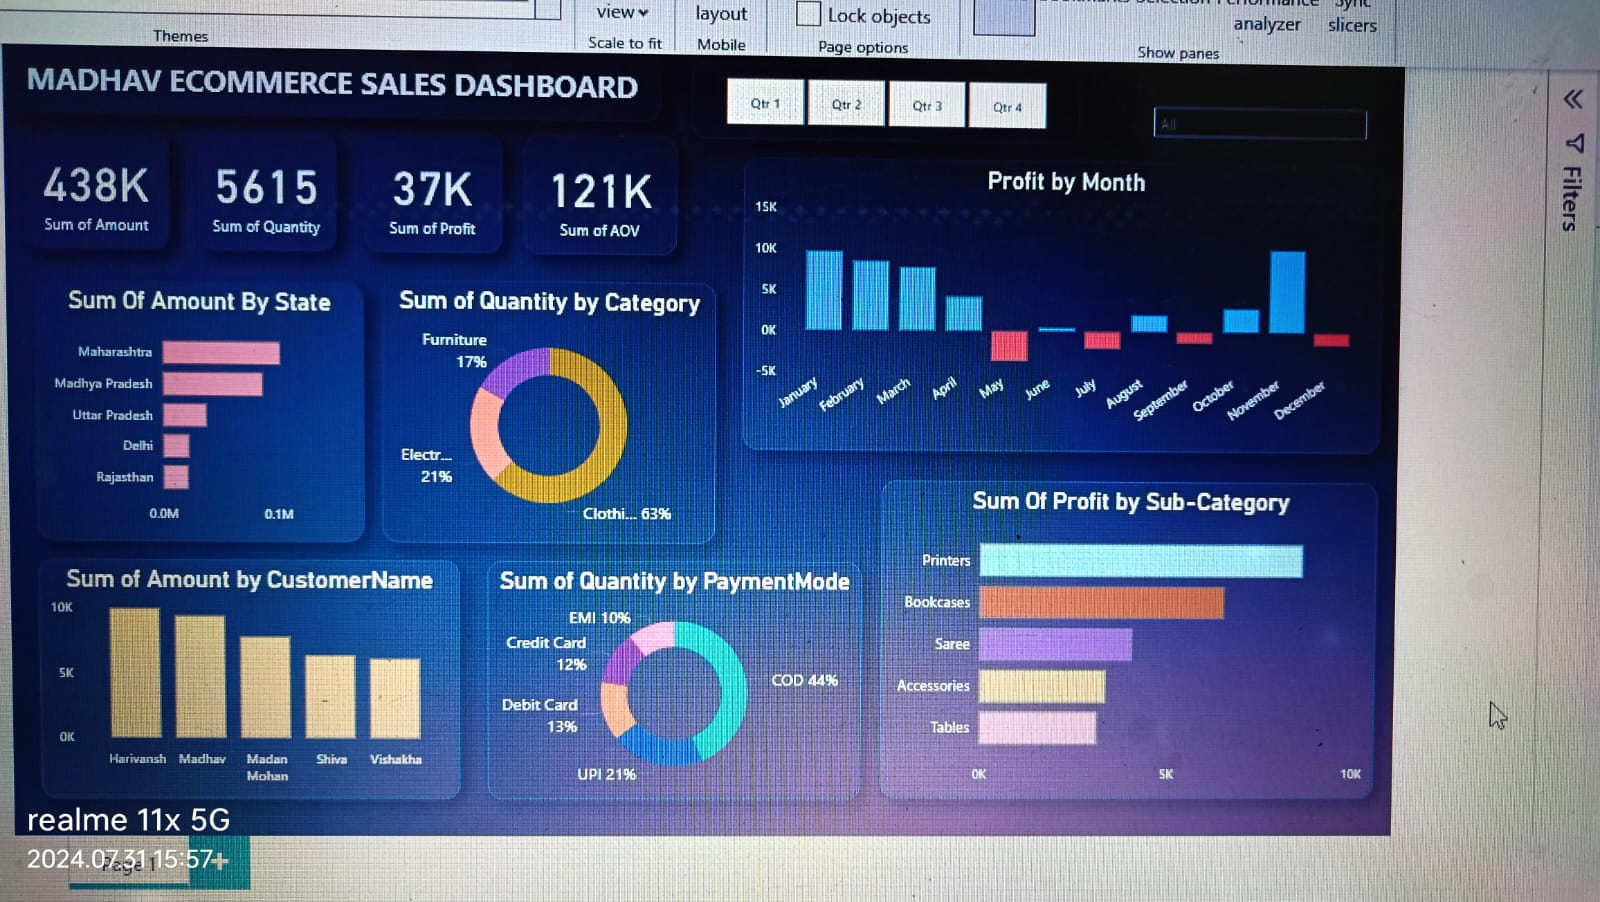

What the dashboard file says about the page in this screenshot:
{"tool":"powerbi","page":{"name":"Page 1","canvas":[1280,720],"ordinal":0},"visuals":[{"type":"textbox","box":[0,0,589.9,62.4],"z":0},{"type":"columnChart","title":"Profit by Month","fields":{"Category":["Orders.Order Date.Variation.Date Hierarchy.Month"],"Y":["Details.Profit"]},"box":[665.5,92,594.8,267.8],"z":1000},{"type":"barChart","title":"Sum Of Profit by Sub-Category","fields":{"Category":["Details.Sub-Category"],"Y":["Details.Profit"]},"box":[795.3,387.8,465,297.4],"z":2000},{"type":"donutChart","fields":{"Category":["Details.Category"],"Y":["Details.Quantity"]},"box":[336.8,207,304,239.9],"z":3000},{"type":"donutChart","fields":{"Y":["Details.Quantity"],"Category":["Details.PaymentMode"]},"box":[432.1,463.4,345.1,221.8],"z":4000},{"type":"card","fields":{"Values":["Details.Amount"]},"box":[16.4,75.6,131.5,108.4],"z":5000},{"type":"card","fields":{"Values":["Details.Quantity"]},"box":[170.9,75.6,124.9,108.4],"z":6000},{"type":"card","fields":{"Values":["Details.Profit"]},"box":[320.4,75.6,124.9,108.4],"z":7000},{"type":"card","fields":{"Values":["Details.AOV"]},"box":[465,75.6,139.7,108.4],"z":8000},{"type":"barChart","title":"Sum Of Amount By State","fields":{"Category":["Orders.State"],"Y":["Details.Amount"]},"box":[24.6,210.3,295.8,236.6],"z":9000},{"type":"columnChart","fields":{"Category":["Orders.CustomerName"],"Y":["Details.Amount"]},"box":[24.6,463.4,382.8,221.8],"z":10000},{"type":"slicer","fields":{"Values":["Orders.Order Date.Variation.Date Hierarchy.Quarter"]},"box":[617.8,6.6,356.6,69],"z":11000},{"type":"slicer","fields":{"Values":["Orders.State"]},"box":[1028.6,6.6,231.7,69],"z":12000}]}

Visuals, with their boxes on the page's 1280x720 design canvas (x1, y1, x2, y2). These are canvas units, not pixel positions in the 1600x902 screenshot, which may show the page scaled, cropped or inside an application window:
textbox: (0, 0, 590, 62)
"Profit by Month" columnChart: (666, 92, 1260, 360)
"Sum Of Profit by Sub-Category" barChart: (795, 388, 1260, 685)
donutChart - Details.Category x Details.Quantity: (337, 207, 641, 447)
donutChart - Details.Quantity x Details.PaymentMode: (432, 463, 777, 685)
card - Details.Amount: (16, 76, 148, 184)
card - Details.Quantity: (171, 76, 296, 184)
card - Details.Profit: (320, 76, 445, 184)
card - Details.AOV: (465, 76, 605, 184)
"Sum Of Amount By State" barChart: (25, 210, 320, 447)
columnChart - Orders.CustomerName x Details.Amount: (25, 463, 407, 685)
slicer - Orders.Order Date.Variation.Date Hierarchy.Quarter: (618, 7, 974, 76)
slicer - Orders.State: (1029, 7, 1260, 76)
